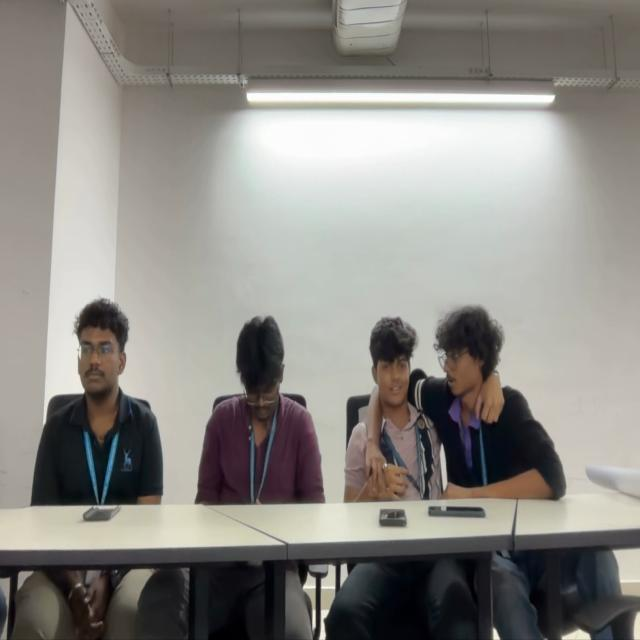Isolated: (33, 303, 164, 498), (195, 310, 327, 502)
socializing: (342, 305, 566, 501)
